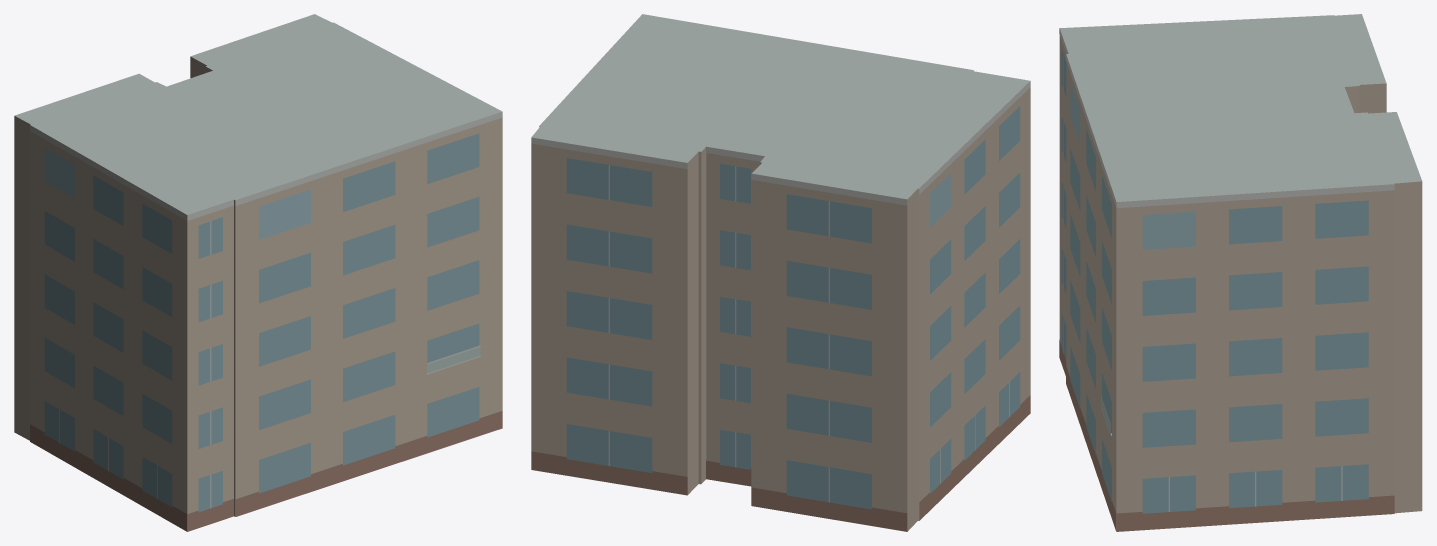
The model's file is survey-upis-32832861.glb.
3 renders of one model, left to right at view 1: azimuth 30°, elevation 25°; view 2: azimuth 150°, elevation 25°; view 3: azimuth 270°, elevation 25°, orthographic. The views are drawn at different scales.
Parts seen in each view (by area): view 1: survey-upis-32832861.tmp; view 2: survey-upis-32832861.tmp; view 3: survey-upis-32832861.tmp.
Part boxes in pixels (x1=…): survey-upis-32832861.tmp: x1=14, y1=14, x2=502, y2=531; survey-upis-32832861.tmp: x1=531, y1=14, x2=1030, y2=531; survey-upis-32832861.tmp: x1=1059, y1=14, x2=1422, y2=531.
Bounding box in the file's own units: 15.98 × 13.05 × 13.02.
